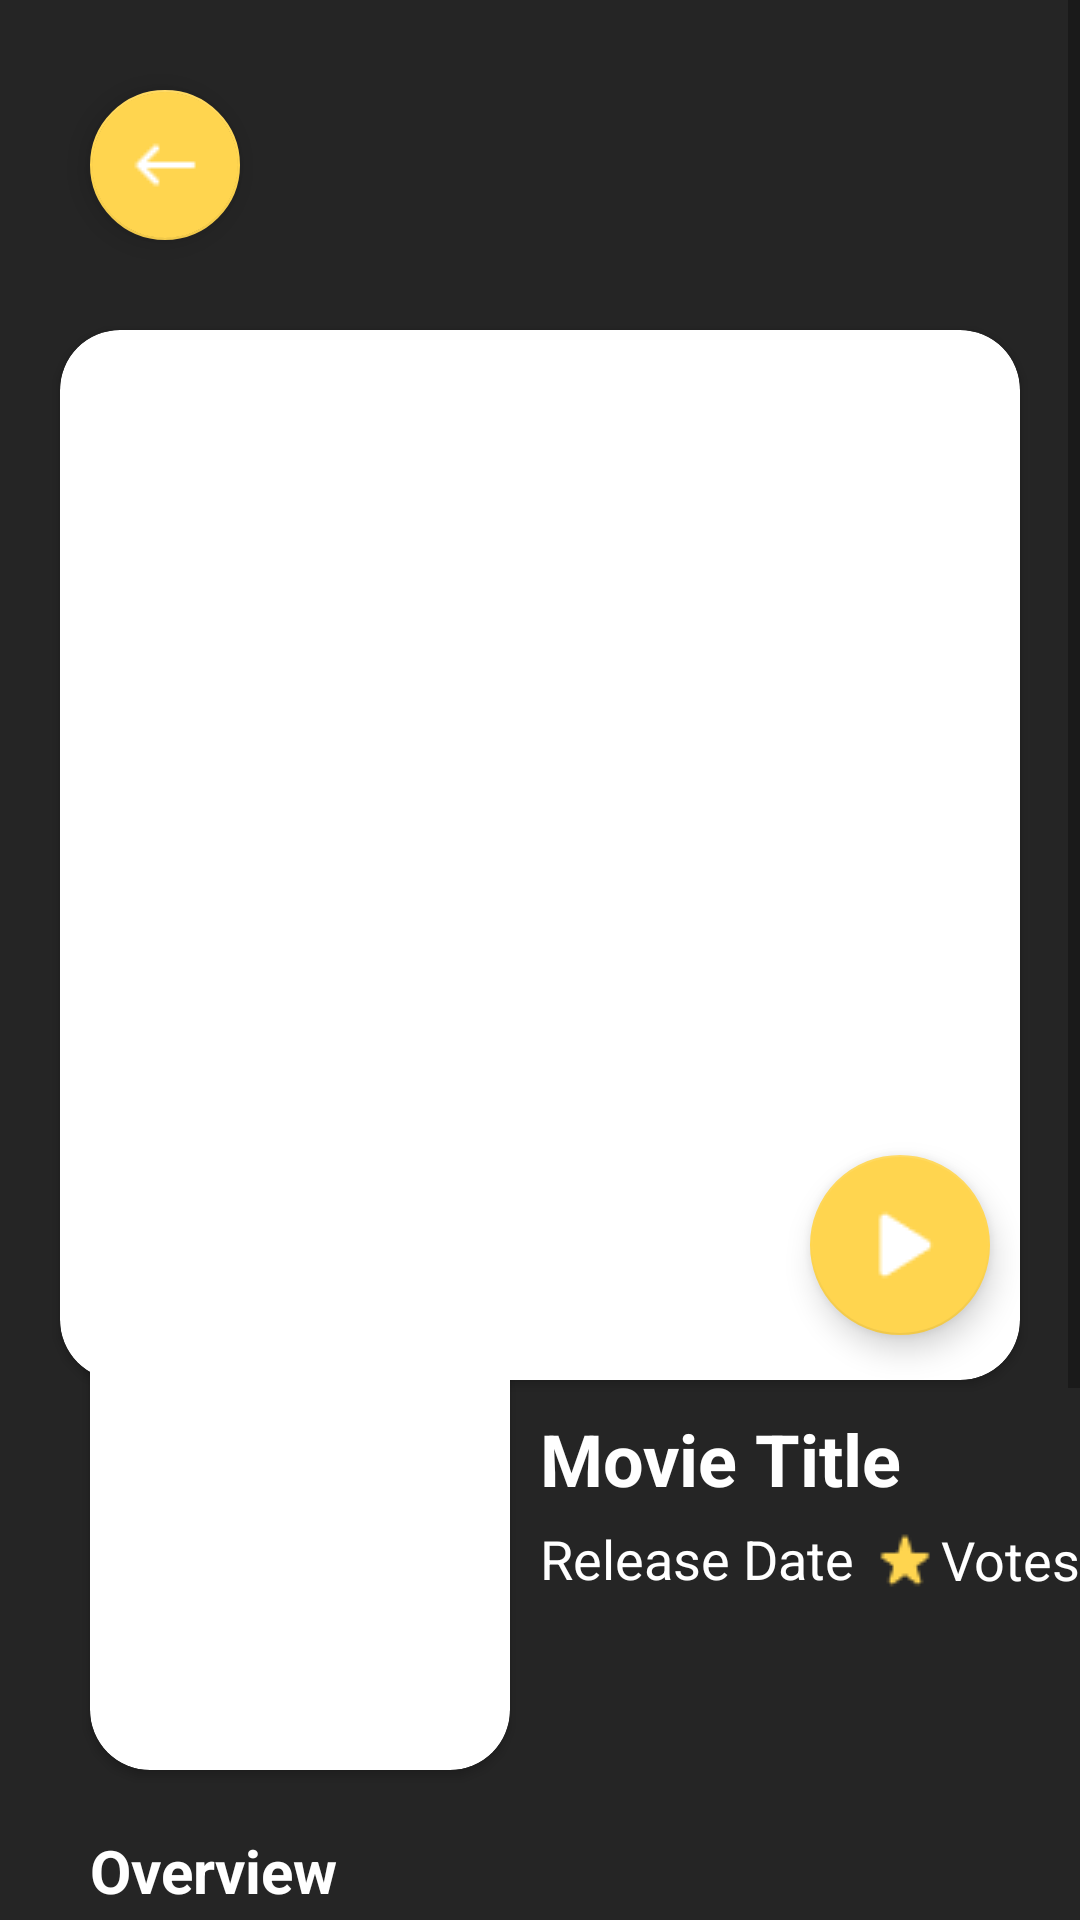

Point at icon controls on the screen. Image size 1080w x 1920h, points as (x,y).
arrow back: (165,165)
play: (900,1245)
star: (905,1560)
